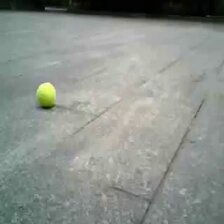tennis: (36, 83, 56, 106)
